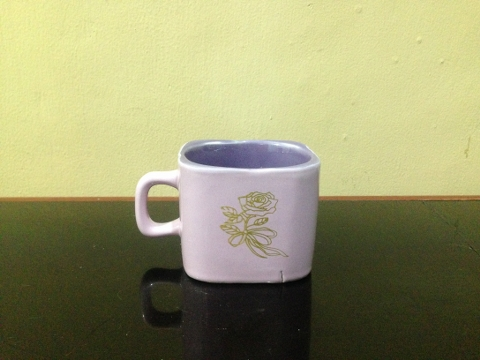tempat minum: (135, 140, 321, 284)
